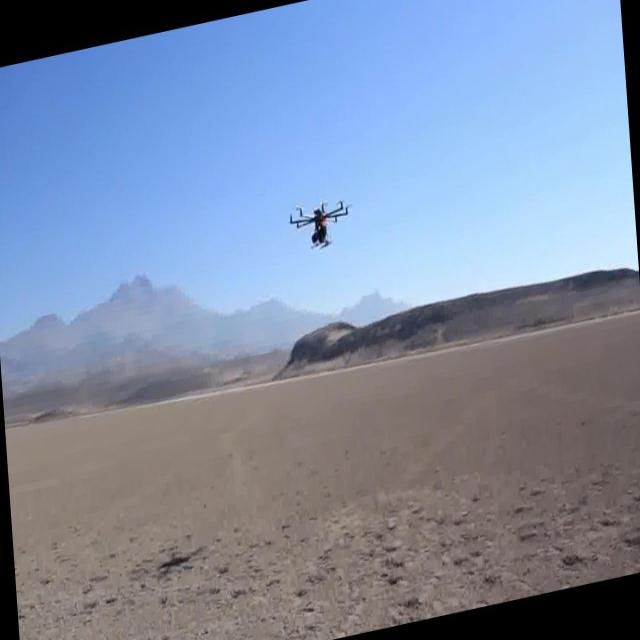drone: (285, 188, 353, 258)
